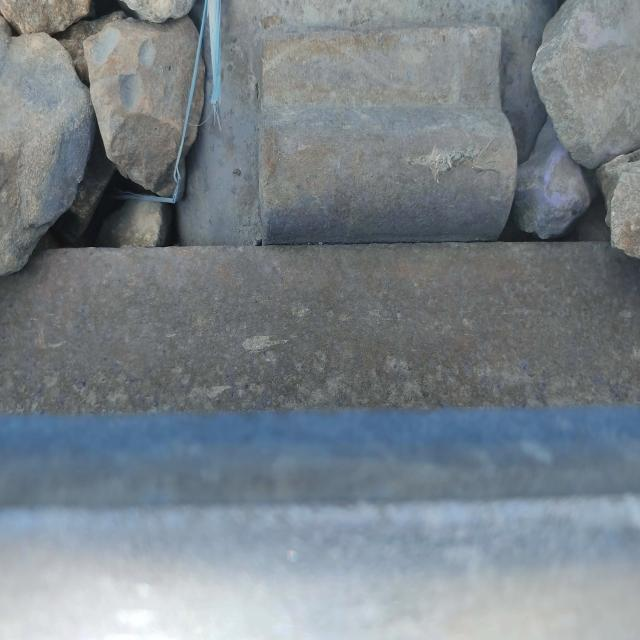Missing Fastener: (249, 9, 538, 291)
